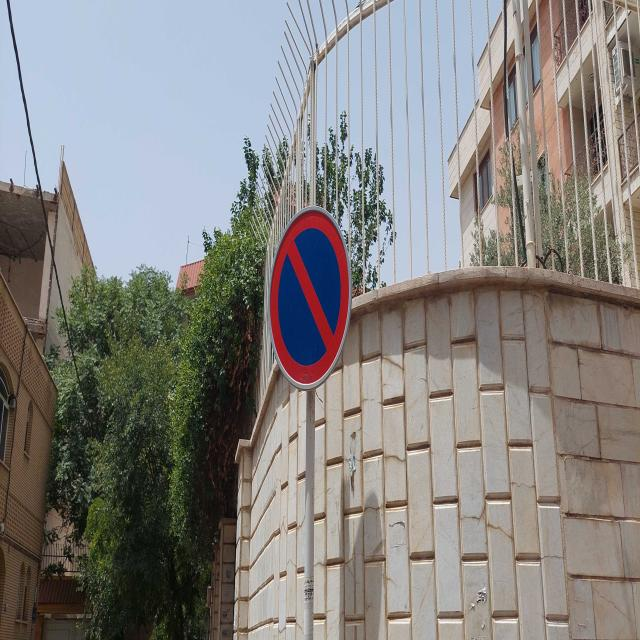forb_stopping: (268, 208, 350, 389)
